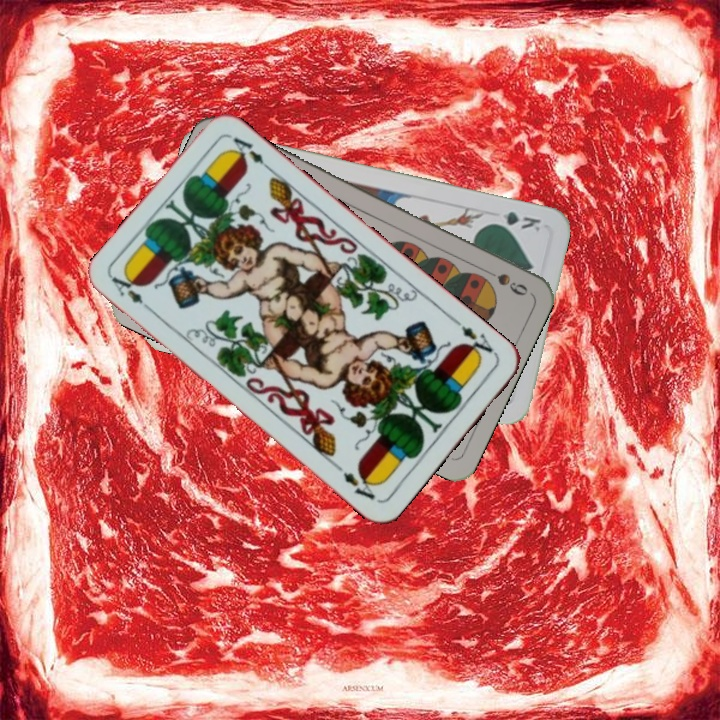EA: (449, 315, 499, 362), (107, 272, 157, 316)
GK: (486, 207, 543, 234)
S9: (476, 263, 531, 299)
